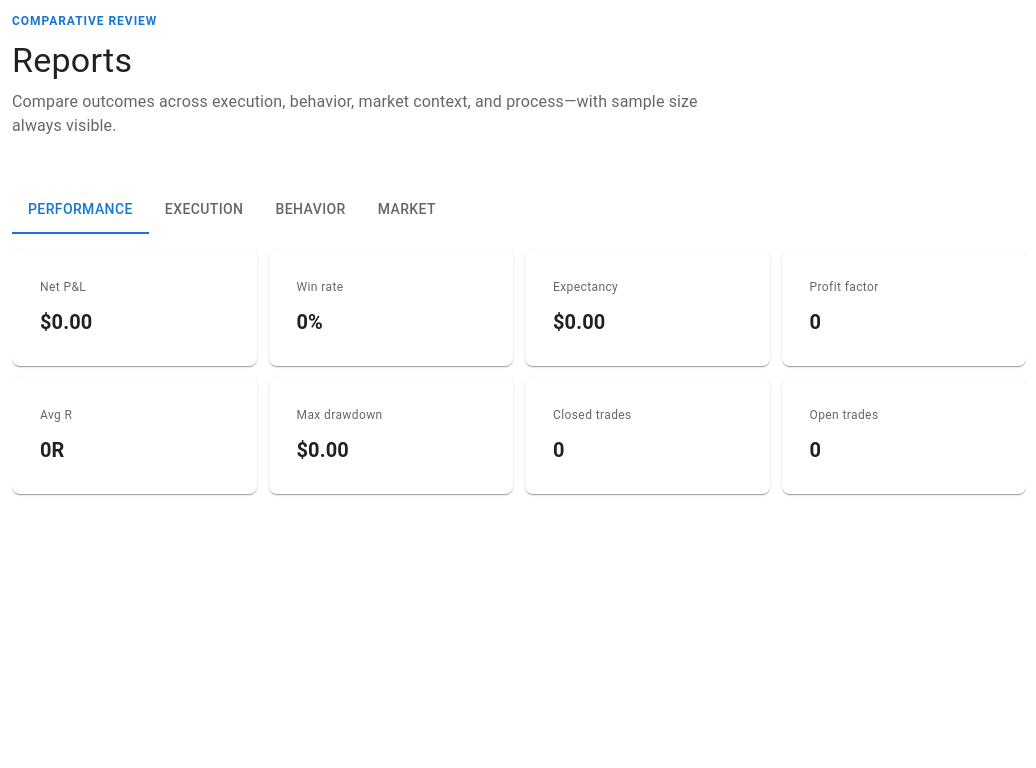
it: ReportsPage › renders performance, execution, and behavior tabs without crashing when report stats are missing
The width and height of the screenshot is (1036, 768).
expect the heading "Reports" is shown: met, box [12,40,132,80]
expect the text "Net P&L" is shown: met, box [40,280,86,294]
Click the tab "Execution" at (204, 210), box [149,186,259,234]
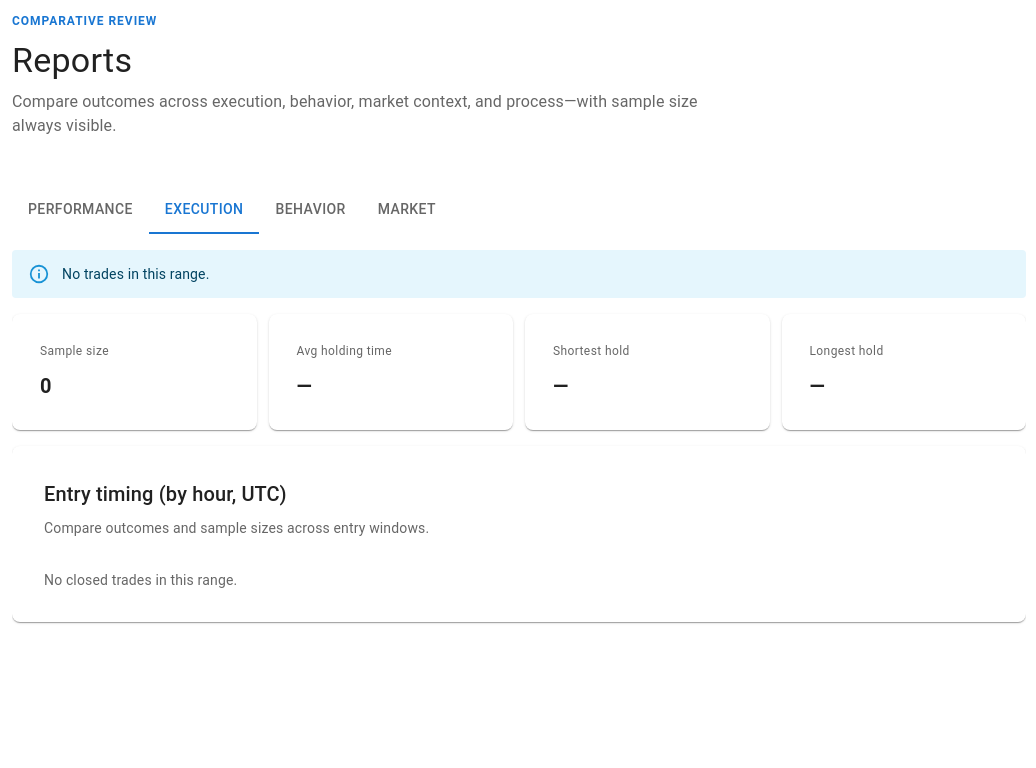
expect the text "Sample size" is shown: met, box [40,344,109,358]
Click the tab "Behavior" at (311, 210), box [260,186,362,234]
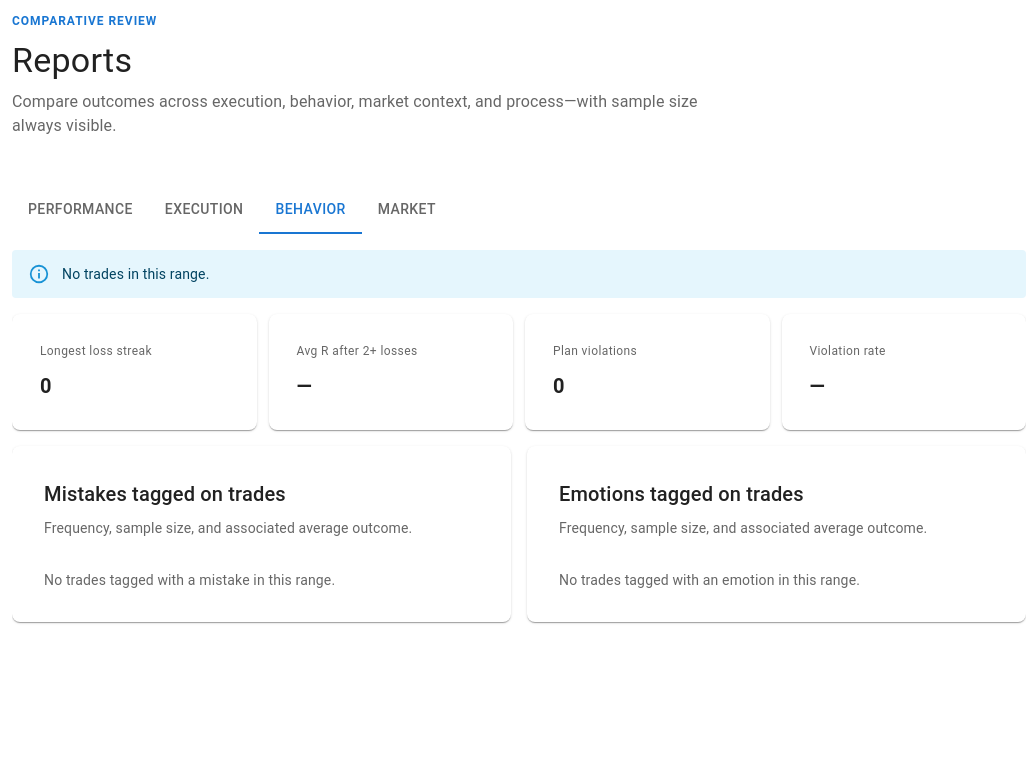
expect the text "Plan violations" is shown: met, box [553,344,637,358]
